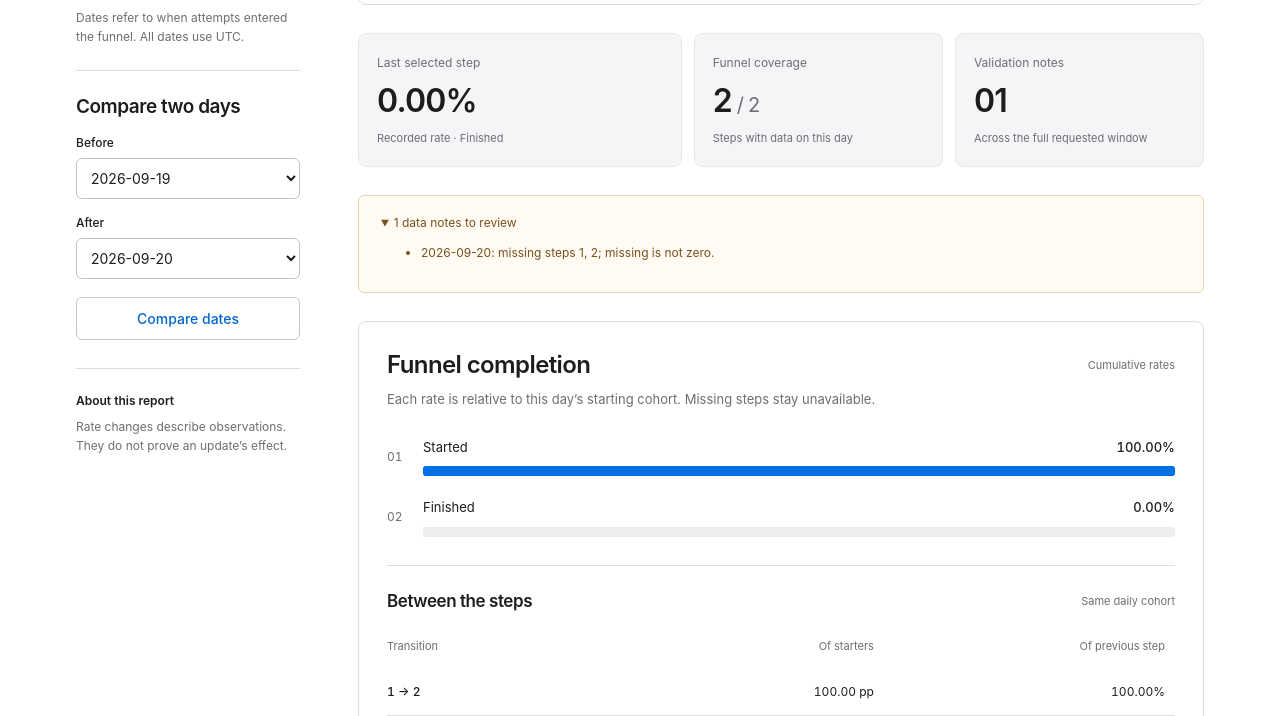
Test: requires explicit comparison and labels results with applied rather than draft dates
The width and height of the screenshot is (1280, 716).
(page scrolled)
Click the button "Compare dates". click: (188, 318)
box: [76,297,300,340]
(page scrolled)
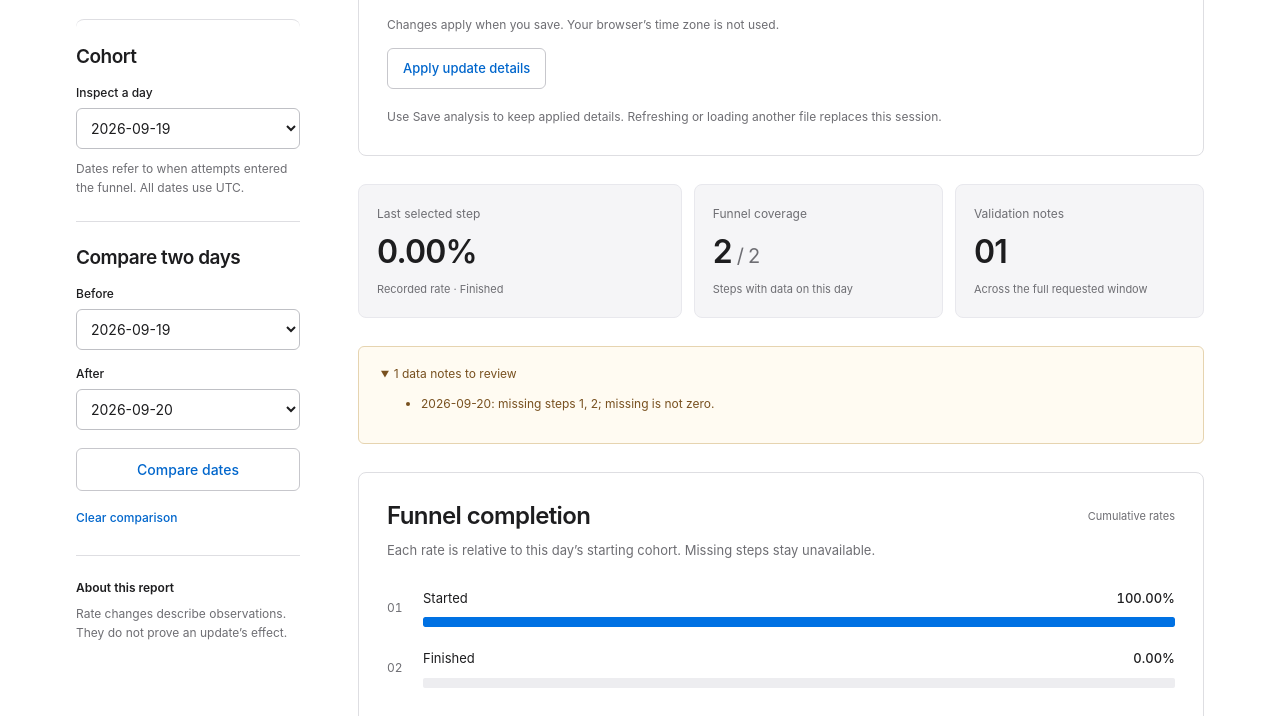
Select "2026-09-19" in the dropdown labelled "After". click: (188, 409)
box: [76,389,300,430]
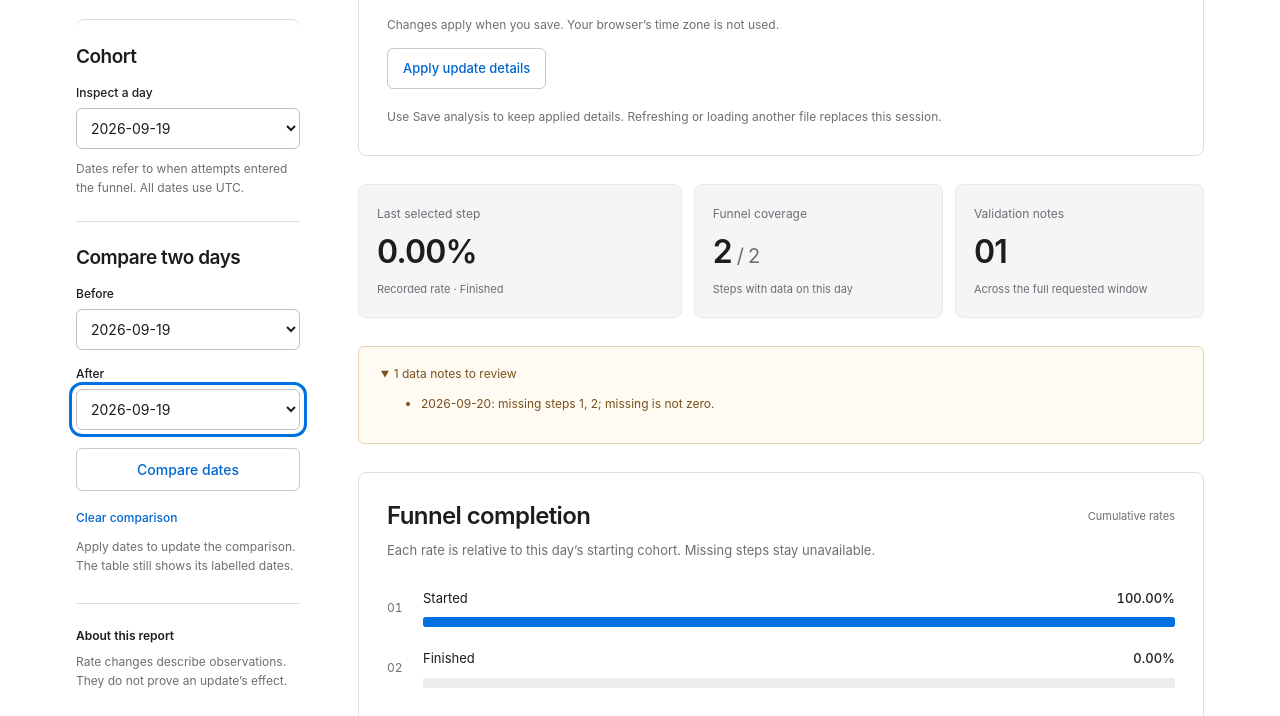
Check: the text "table still shows its labelled dates" is shown, box [76,539,296,573]
Click the button "Compare dates". click: (188, 469)
box: [76,448,300,491]
(page scrolled)
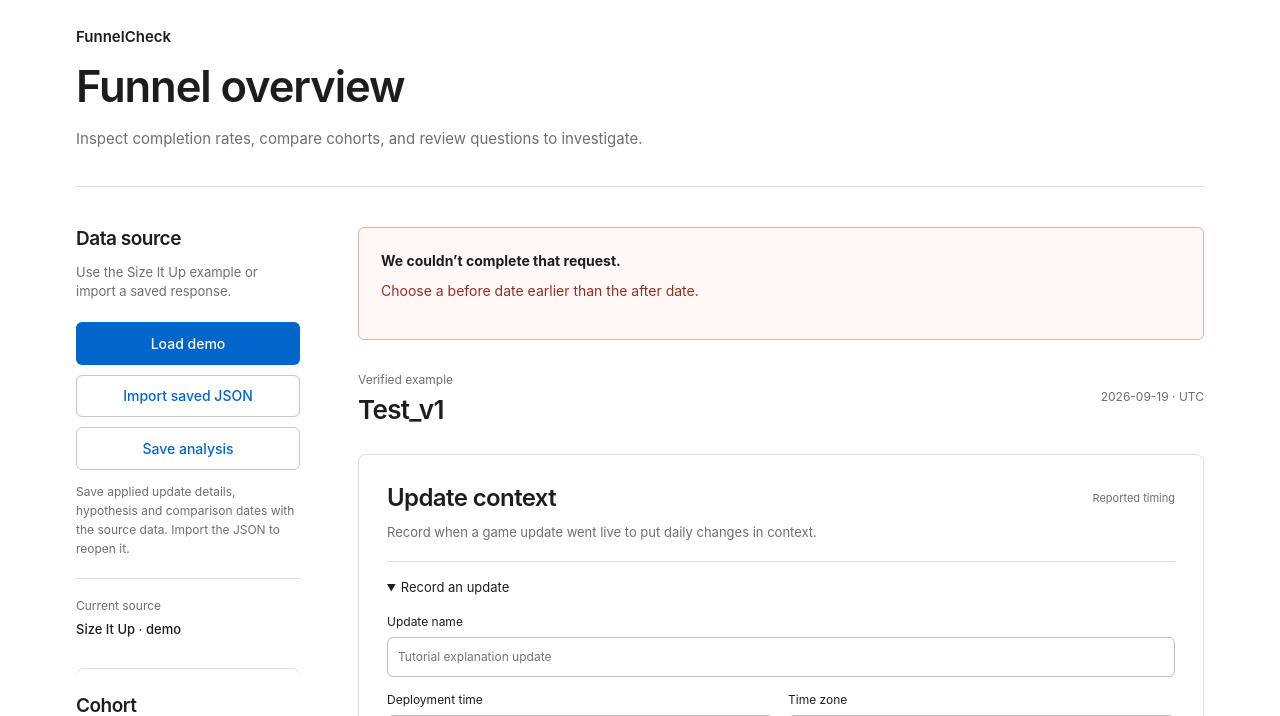
Check: the message shows "before date earlier", box [381,282,699,299]
